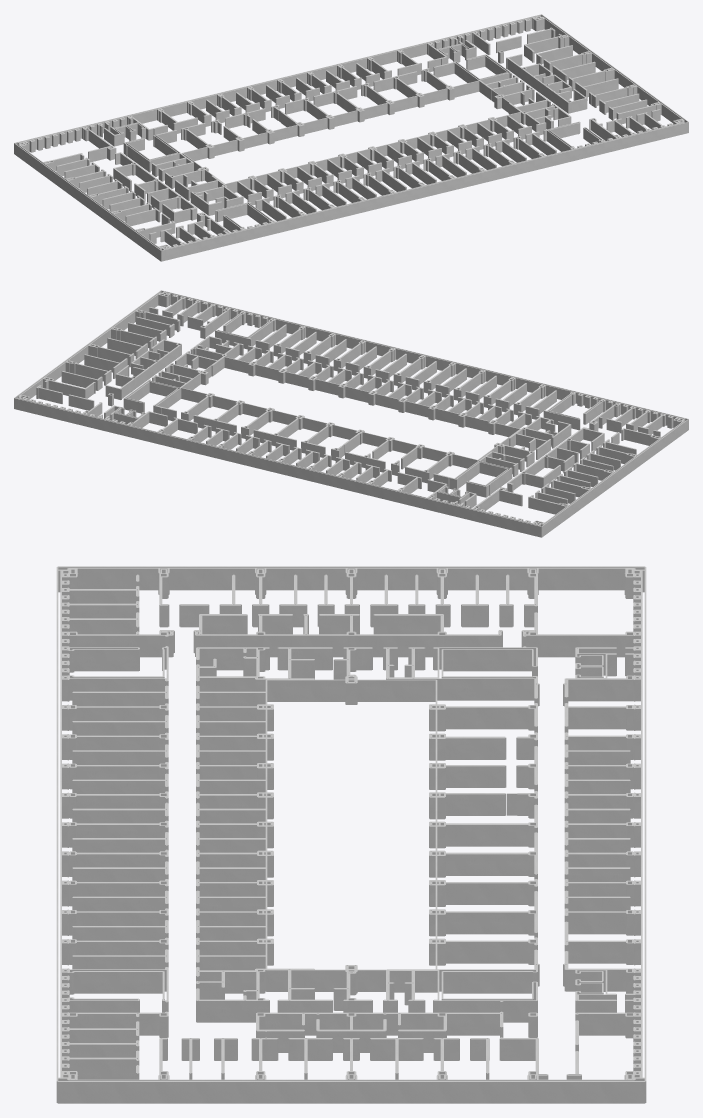
Rendered from povo.dae.
3 renders of one model, top to bottom at view 1: azimuth 30°, elevation 25°; view 2: azimuth 150°, elevation 25°; view 3: azimuth 270°, elevation 25°, orthographic. The views are drawn at different scales.
Visible parts, largest first — view 1: walls; view 2: walls; view 3: walls.
Boxes of the visible parts, x1,y1,x2,y2 form: walls: [14, 14, 688, 261]; walls: [14, 290, 688, 537]; walls: [56, 566, 646, 1103].
Size of the model in its own units: 102 by 49.35 by 2.
Materials: 1 (1 with a texture image).
